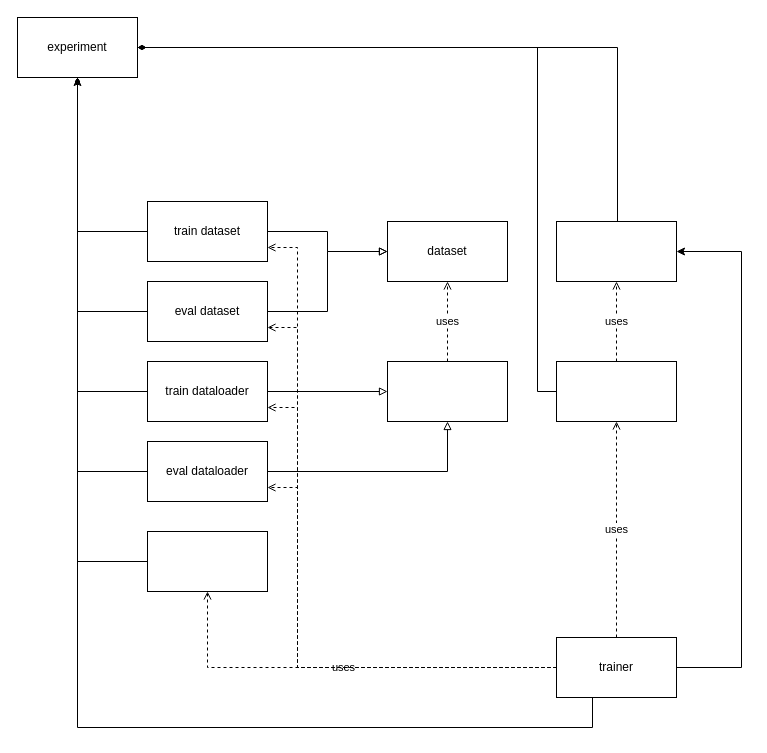
Image size: 767x753. Some labels were removed from this diagram. The shapes that lost their labels are listed below. From the top down, each one's box as (x1, y1, x2, y2) in pixels, then its label:
(556, 220, 676, 282): model
(386, 360, 508, 422): dataloader
(556, 360, 676, 422): optimizer
(146, 530, 268, 592): callbacks
